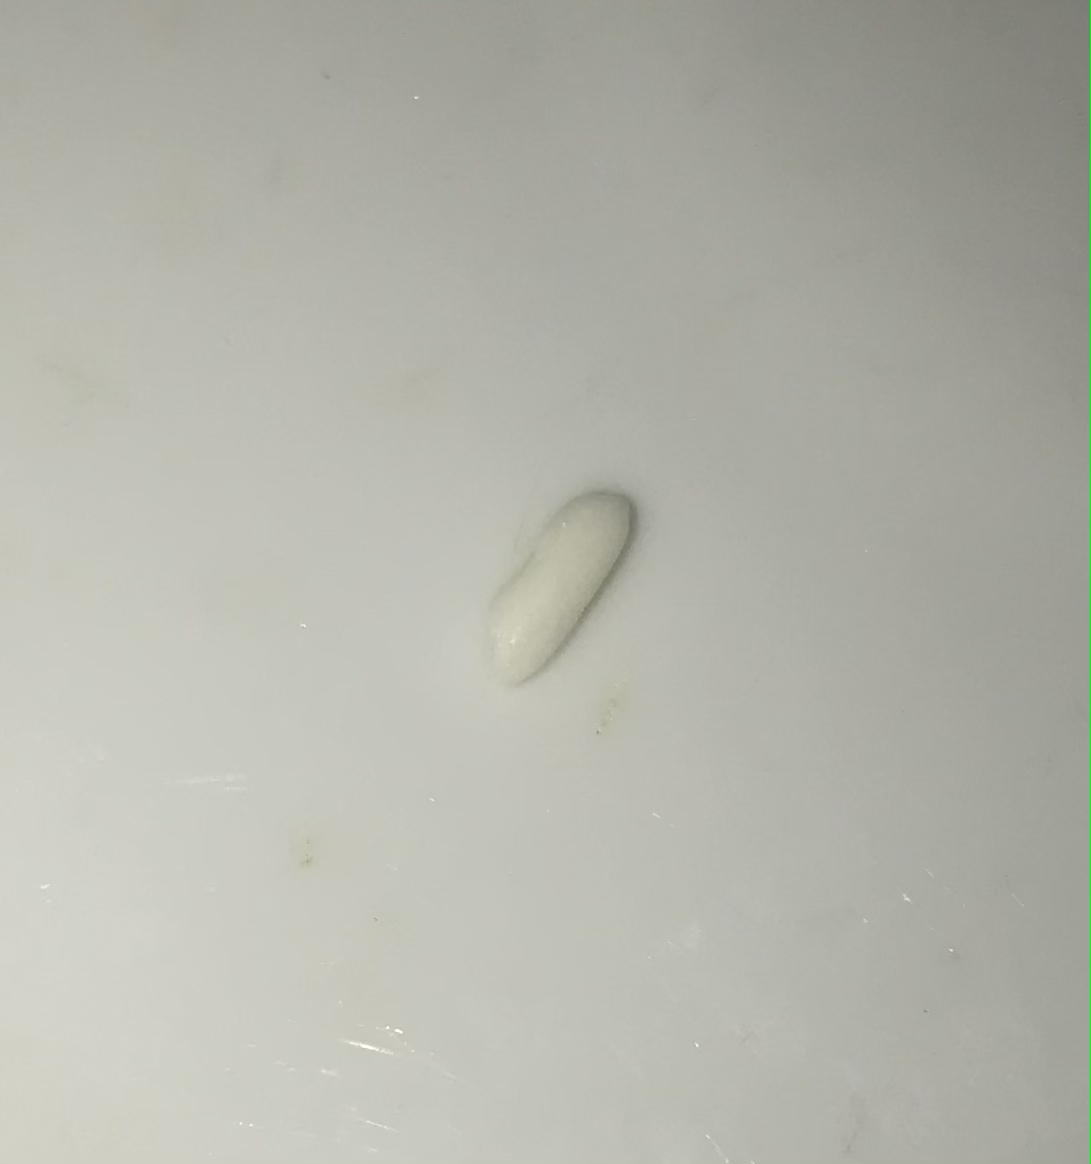Gao Nep Sap: (469, 458, 649, 709)
